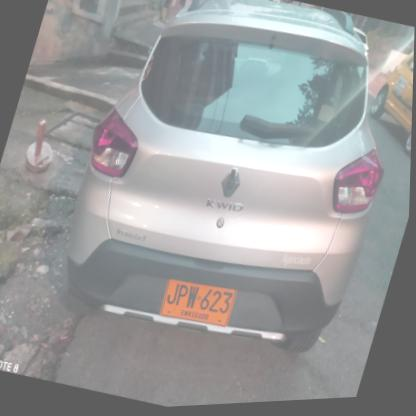placa: (151, 265, 248, 341)
